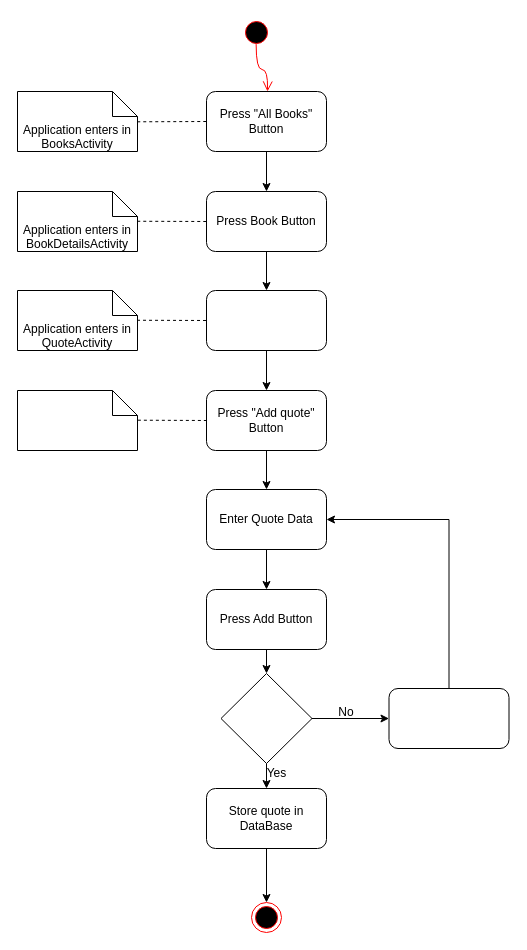
Image size: 527x950. Some labels were removed from this diagram. Here are the shapes that lost their labels. From the top down, the box of each, then its label:
(206, 290, 326, 350): Press "Quotes" Button
(16, 390, 138, 450): Open QuoteInput Dialog
(220, 672, 312, 764): Entered valid data
(388, 688, 509, 748): Display error message
